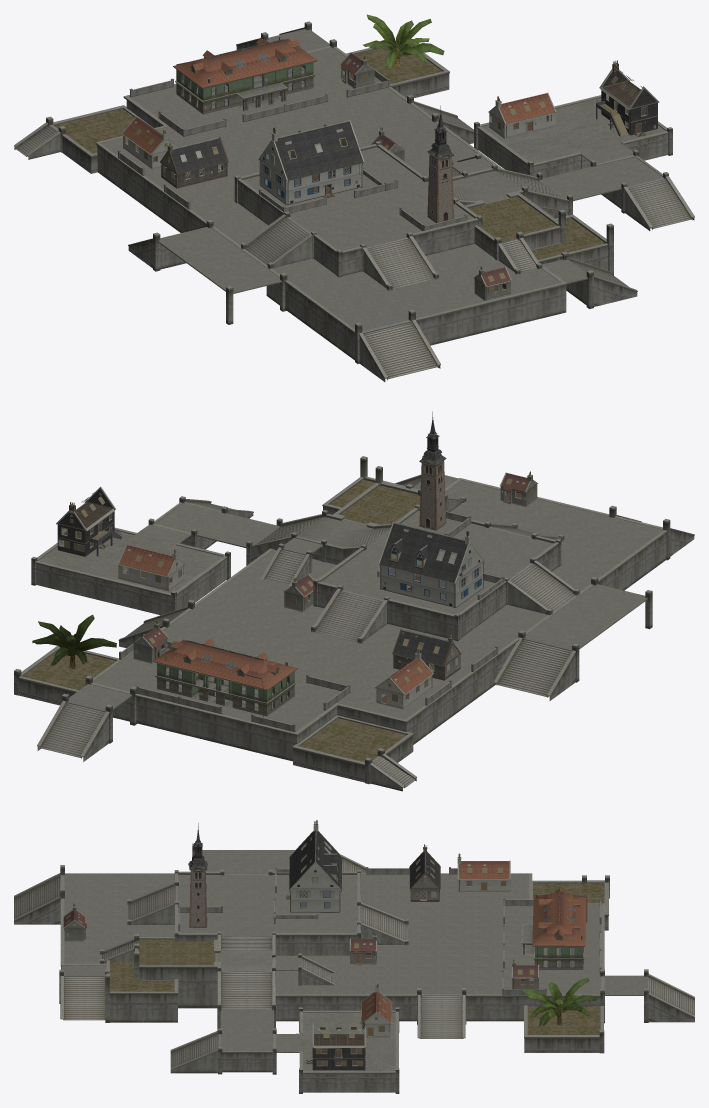
Rendered from map.glb.
3 renders of one model, top to bottom at view 1: azimuth 30°, elevation 25°; view 2: azimuth 150°, elevation 25°; view 3: azimuth 270°, elevation 25°, orthographic. The views are drawn at different scales.
Visible parts, largest first — view 1: Base_02_LOD0_0, mansion_LOD0_2, mansion_LOD0_3, Zone_A_House_Huge_A_LOD0_1, Zone_A_House_Huge_A_LOD0_2, Tower_01_LOD0_0, Mesh_0002.rip.002, Zone_A_House_Huge_A_LOD0_0, Zone_A_House_Big_B_LOD0_1, Zone_A_House_Big_B_LOD0_2, Zone_A_House_Medium_B_LOD0_3.002, Zone_A_House_Medium_A_LOD0_3 (+7 smaller); view 2: Base_02_LOD0_0, mansion_LOD0_2, mansion_LOD0_3, Zone_A_House_Huge_A_LOD0_1, Zone_A_House_Huge_A_LOD0_2, Tower_01_LOD0_0, Zone_A_House_Huge_A_LOD0_0, Zone_A_House_Big_B_LOD0_1, Mesh_0002.rip.002, Zone_A_House_Big_B_LOD0_2, Zone_A_House_Medium_B_LOD0_3.002, Zone_A_House_Medium_A_LOD0_3 (+8 smaller); view 3: Base_02_LOD0_0, mansion_LOD0_2, Zone_A_House_Huge_A_LOD0_1, Zone_A_House_Huge_A_LOD0_2, Mesh_0002.rip.002, Zone_A_House_Big_B_LOD0_1, Tower_01_LOD0_0, mansion_LOD0_3, Zone_A_House_Huge_A_LOD0_0, Zone_A_House_Big_B_LOD0_2, Zone_A_House_Medium_A_LOD0_3.007, Zone_A_House_Medium_B_LOD0_3.002 (+6 smaller).
Part boxes in pixels (box(x1,y1,x2,y2)): Base_02_LOD0_0: box(14, 21, 694, 381); mansion_LOD0_2: box(173, 37, 317, 109); mansion_LOD0_3: box(175, 37, 316, 114); Zone_A_House_Huge_A_LOD0_1: box(275, 120, 363, 180); Zone_A_House_Huge_A_LOD0_2: box(259, 133, 362, 204); Tower_01_LOD0_0: box(427, 105, 453, 223); Mesh_0002.rip.002: box(363, 14, 444, 69); Zone_A_House_Huge_A_LOD0_0: box(258, 120, 364, 205); Zone_A_House_Big_B_LOD0_1: box(596, 60, 659, 136); Zone_A_House_Big_B_LOD0_2: box(601, 63, 657, 136); Zone_A_House_Medium_B_LOD0_3.002: box(170, 137, 227, 178); Zone_A_House_Medium_A_LOD0_3: box(500, 93, 554, 123); Base_02_LOD0_0: box(14, 456, 694, 791); mansion_LOD0_2: box(153, 639, 297, 706); mansion_LOD0_3: box(154, 645, 295, 717); Zone_A_House_Huge_A_LOD0_1: box(379, 522, 467, 582); Zone_A_House_Huge_A_LOD0_2: box(380, 535, 482, 607); Tower_01_LOD0_0: box(419, 411, 446, 530); Zone_A_House_Huge_A_LOD0_0: box(378, 522, 484, 607); Zone_A_House_Big_B_LOD0_1: box(56, 486, 121, 556); Mesh_0002.rip.002: box(32, 614, 116, 668); Zone_A_House_Big_B_LOD0_2: box(58, 489, 114, 556); Zone_A_House_Medium_B_LOD0_3.002: box(393, 629, 450, 670); Zone_A_House_Medium_A_LOD0_3: box(119, 545, 174, 576); Base_02_LOD0_0: box(14, 843, 694, 1093); mansion_LOD0_2: box(523, 888, 586, 954); Zone_A_House_Huge_A_LOD0_1: box(289, 830, 341, 896); Zone_A_House_Huge_A_LOD0_2: box(291, 824, 339, 912); Mesh_0002.rip.002: box(522, 977, 596, 1027); Zone_A_House_Big_B_LOD0_1: box(311, 1018, 365, 1070); Tower_01_LOD0_0: box(188, 823, 207, 927); mansion_LOD0_3: box(521, 893, 587, 969); Zone_A_House_Huge_A_LOD0_0: box(286, 820, 342, 912); Zone_A_House_Big_B_LOD0_2: box(306, 1020, 365, 1070); Zone_A_House_Medium_A_LOD0_3.007: box(459, 861, 509, 879); Zone_A_House_Medium_B_LOD0_3.002: box(410, 851, 440, 899).
Size of the model in its own units: 87.25 by 27.57 by 114.
38 materials, 38 textured.
